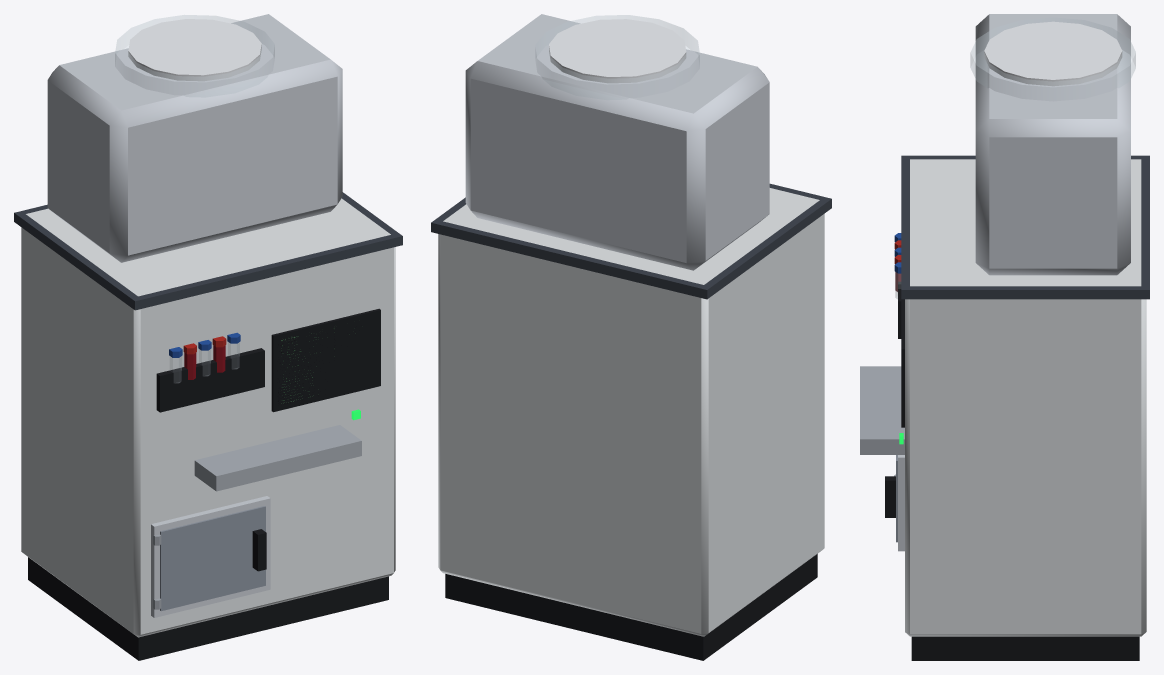
File: medscanner_blood_analyser.glb
The picture shows the model from 3 angles, left to right: view 1: azimuth 30°, elevation 25°; view 2: azimuth 150°, elevation 25°; view 3: azimuth 270°, elevation 25°; orthographic projection. The views are drawn at different scales.
Parts seen in each view (by area): view 1: medscanner_blood_analyser; view 2: medscanner_blood_analyser; view 3: medscanner_blood_analyser.
Boxes of the visible parts, left/top/right/bottom form: medscanner_blood_analyser: left=14, top=14, right=402, bottom=660; medscanner_blood_analyser: left=431, top=14, right=831, bottom=660; medscanner_blood_analyser: left=860, top=14, right=1149, bottom=660.
Bounding box in the file's own units: 0.92 × 1.75 × 0.84.
13 materials, 1 textured.
